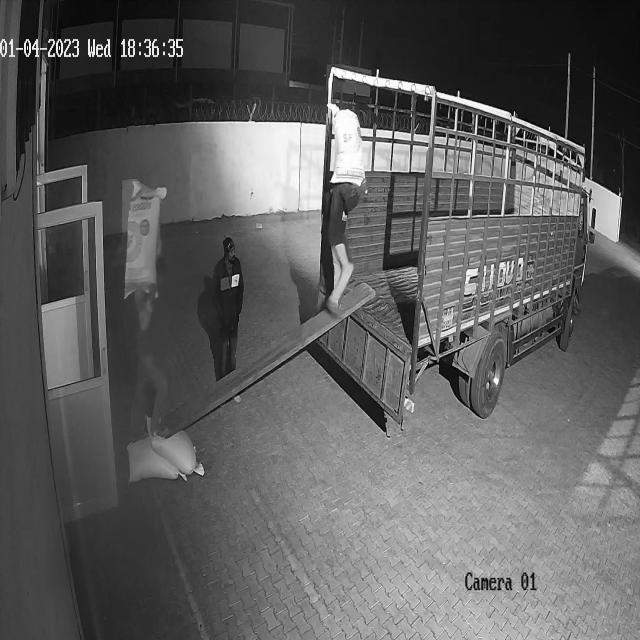sack: (122, 178, 168, 297), (145, 412, 205, 476), (330, 100, 364, 187), (128, 434, 186, 482)
